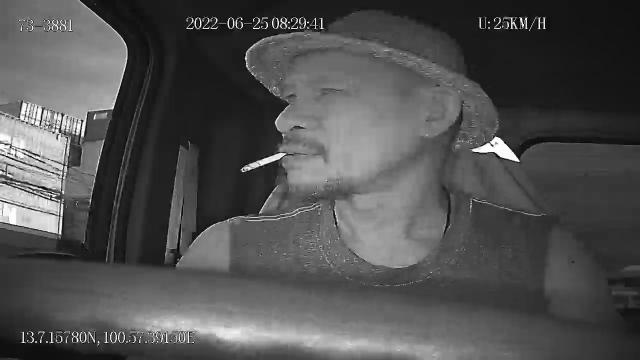Cigarette: (238, 150, 290, 172)
